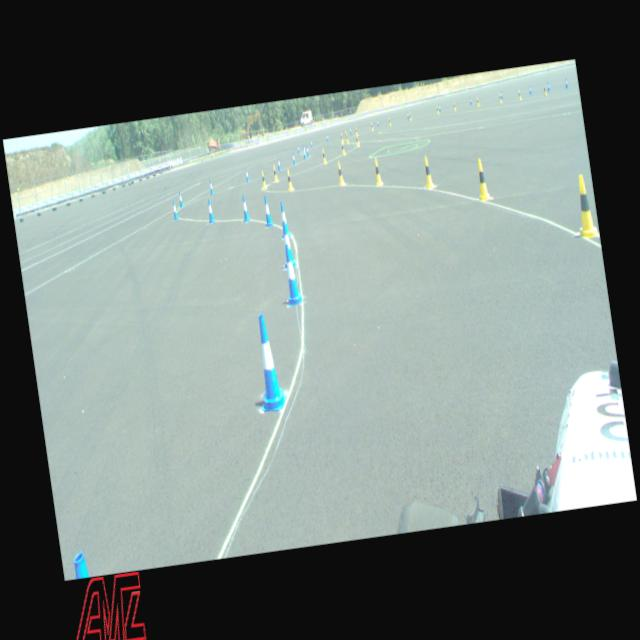blue_cone: (249, 312, 289, 412), (280, 243, 303, 306), (279, 220, 296, 268), (278, 200, 290, 238), (262, 195, 274, 226), (240, 194, 250, 222), (206, 198, 215, 223), (172, 200, 178, 220), (178, 190, 184, 208), (276, 158, 282, 171), (209, 180, 214, 195), (245, 168, 250, 182), (291, 152, 296, 164), (302, 147, 307, 159), (306, 145, 310, 156), (546, 81, 550, 92), (564, 78, 568, 89), (310, 139, 314, 148), (528, 85, 532, 94), (303, 144, 306, 155), (297, 145, 300, 154), (469, 96, 472, 105), (501, 90, 504, 99), (326, 134, 329, 142), (406, 112, 409, 120), (438, 104, 441, 112), (376, 120, 379, 126), (350, 128, 352, 136)
yellow_cone: (572, 174, 598, 239), (474, 158, 490, 202), (422, 156, 434, 188), (372, 157, 383, 185), (336, 161, 346, 185), (286, 170, 294, 190), (272, 164, 278, 182), (261, 170, 267, 188), (322, 149, 328, 164), (340, 140, 346, 155), (542, 84, 548, 96), (356, 132, 360, 148), (517, 89, 522, 100), (346, 132, 350, 144), (340, 132, 344, 144), (498, 92, 502, 103), (354, 126, 358, 136), (476, 97, 480, 107), (344, 130, 348, 139), (388, 118, 392, 126), (436, 106, 440, 114), (371, 122, 374, 131), (409, 112, 412, 121), (453, 102, 456, 110)
